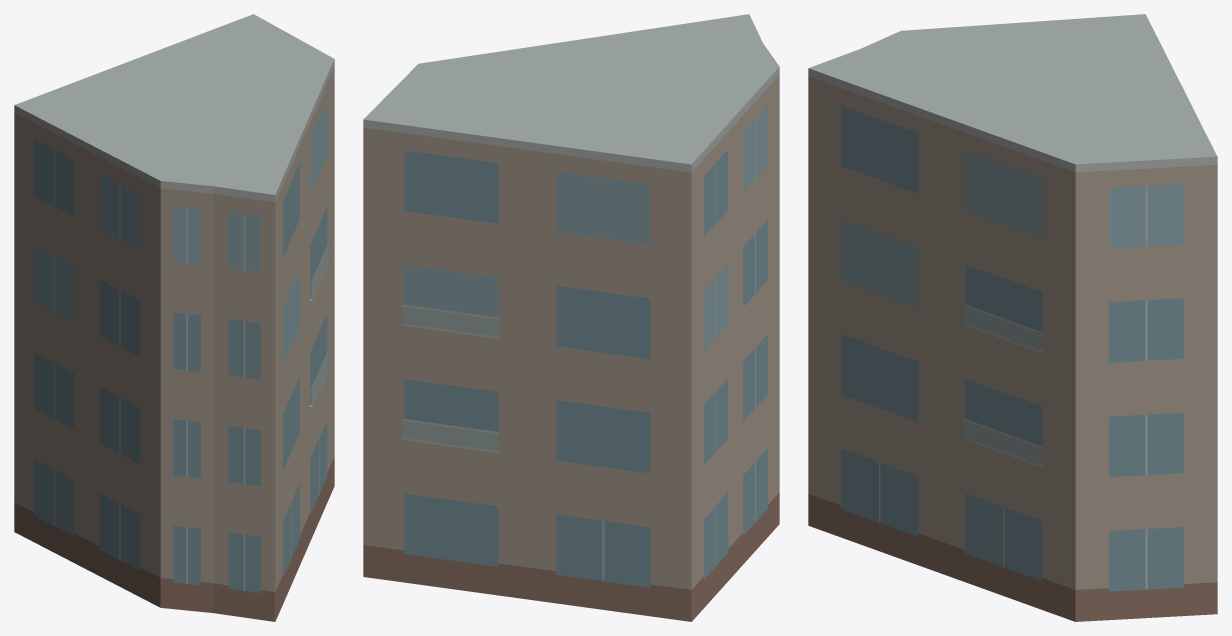
Rendered from survey-upis-32469273.glb.
The picture shows the model from 3 angles, left to right: view 1: azimuth 30°, elevation 25°; view 2: azimuth 150°, elevation 25°; view 3: azimuth 270°, elevation 25°; orthographic projection. The views are drawn at different scales.
Parts seen in each view (by area): view 1: survey-upis-32469273.tmp; view 2: survey-upis-32469273.tmp; view 3: survey-upis-32469273.tmp.
Part boxes in pixels (<box>): survey-upis-32469273.tmp: <box>14,14,334,621</box>; survey-upis-32469273.tmp: <box>363,14,779,621</box>; survey-upis-32469273.tmp: <box>808,14,1217,621</box>.
Bounding box in the file's own units: 9.81 × 13.9 × 11.28.
